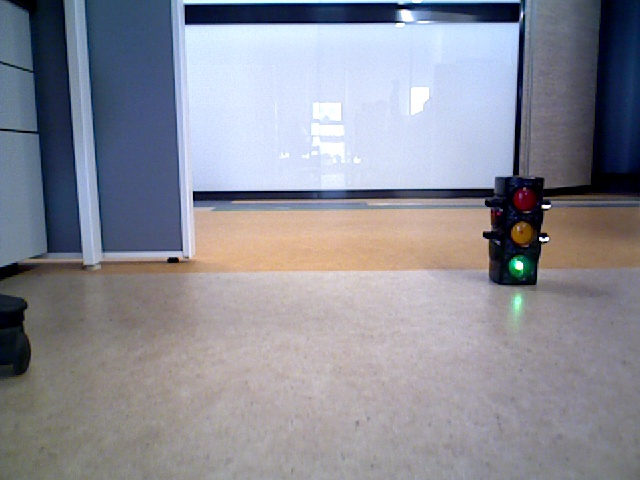green: (497, 180, 535, 281)
